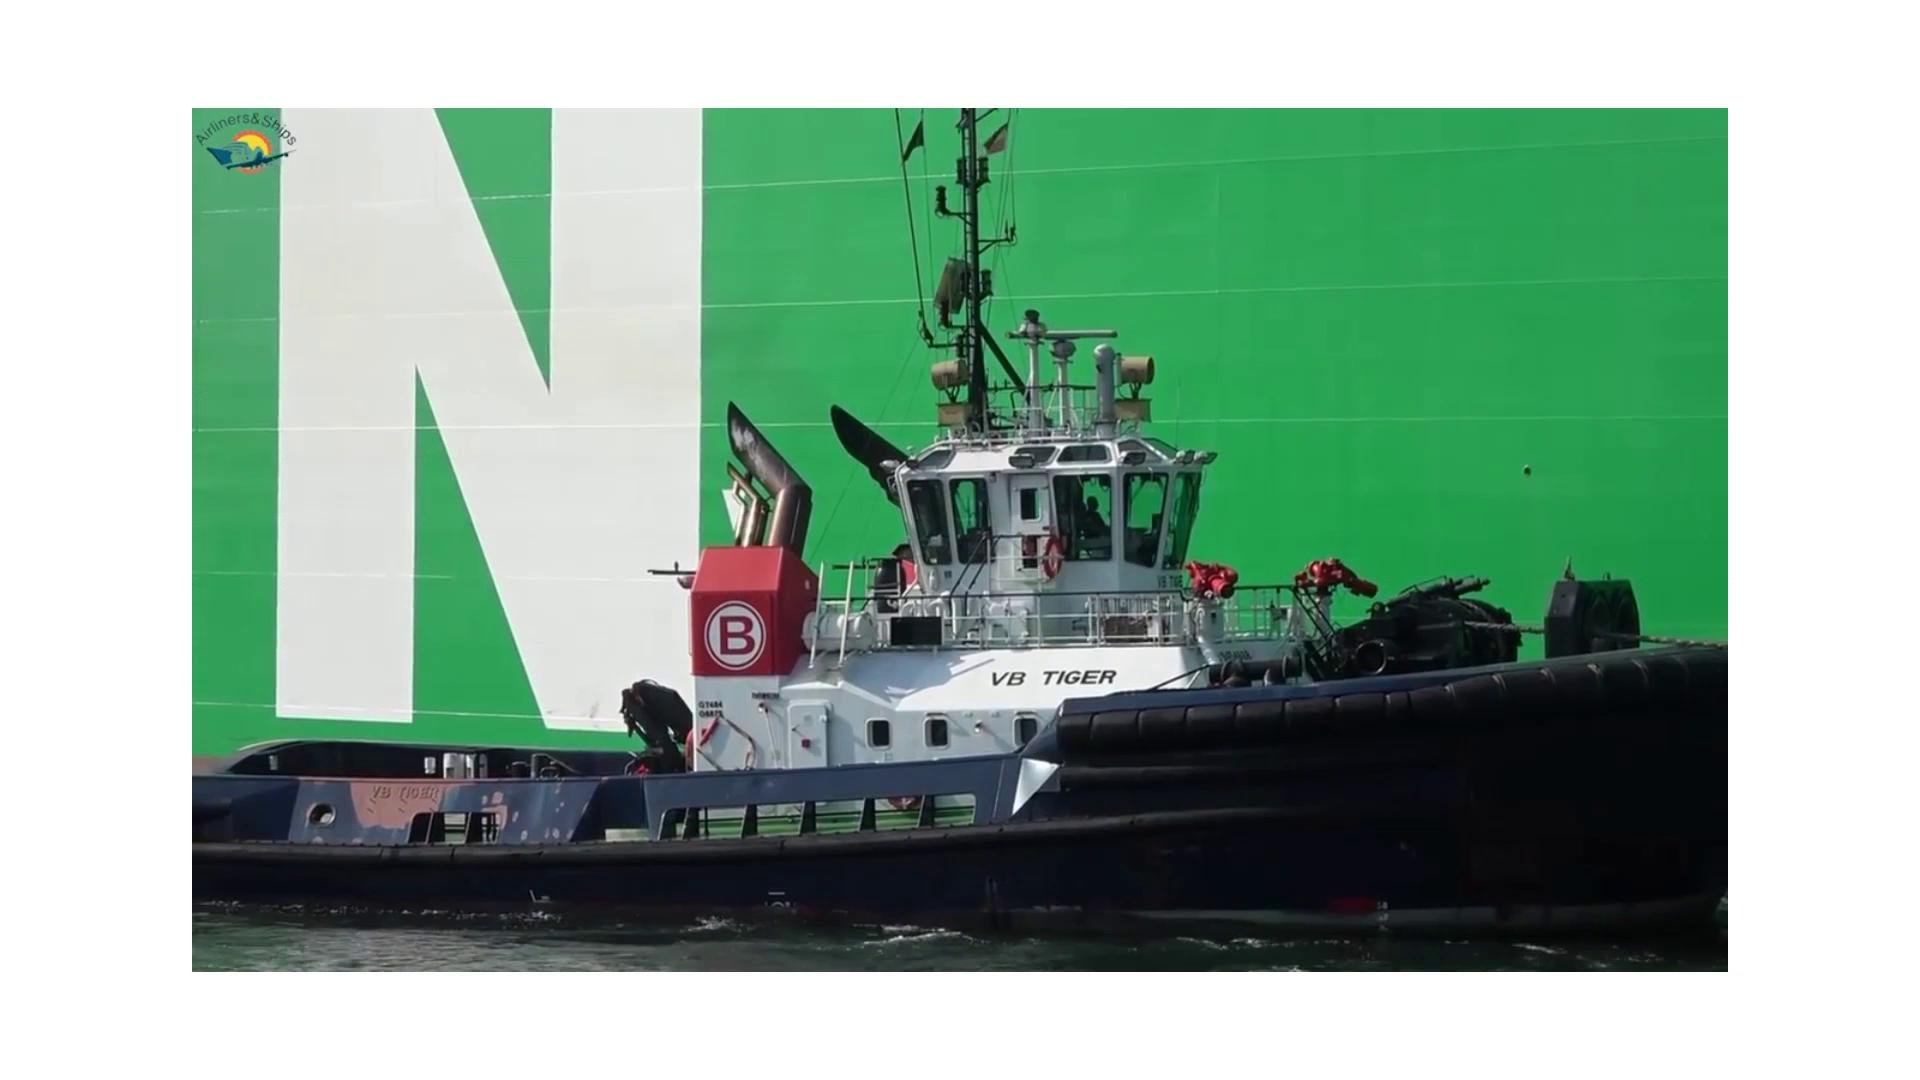OCR: (236, 113, 766, 778)
